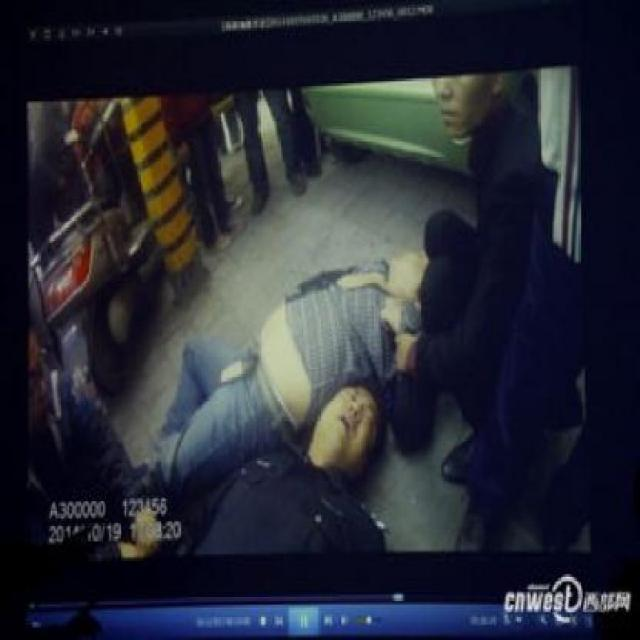fall: (162, 223, 463, 483)
